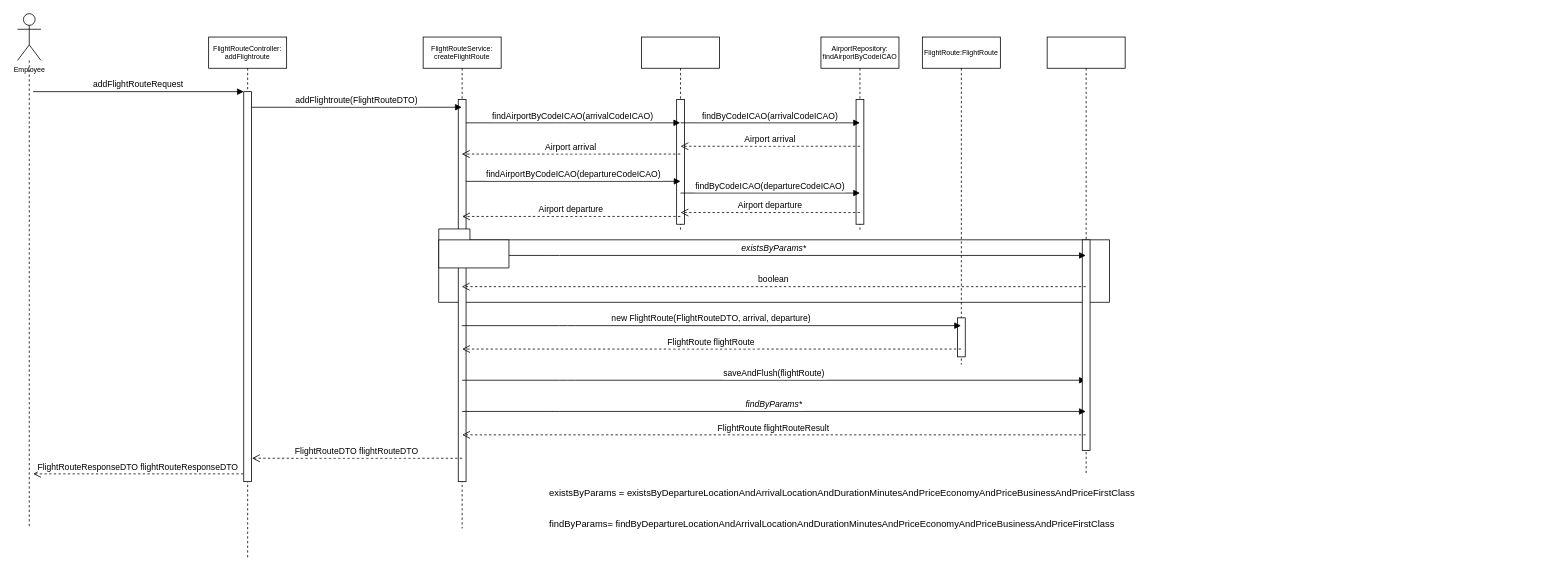
Image size: 1559x573. Some labels were removed from this diagram. Here are the shapes that lost their labels. From the top down, the centre of each, then its label:
At point (680, 134): "AirportService: findAirportByCodeICAO".
At point (473, 248): "alt exists == false".
At point (1085, 255): ":FlightRouteRepository".
